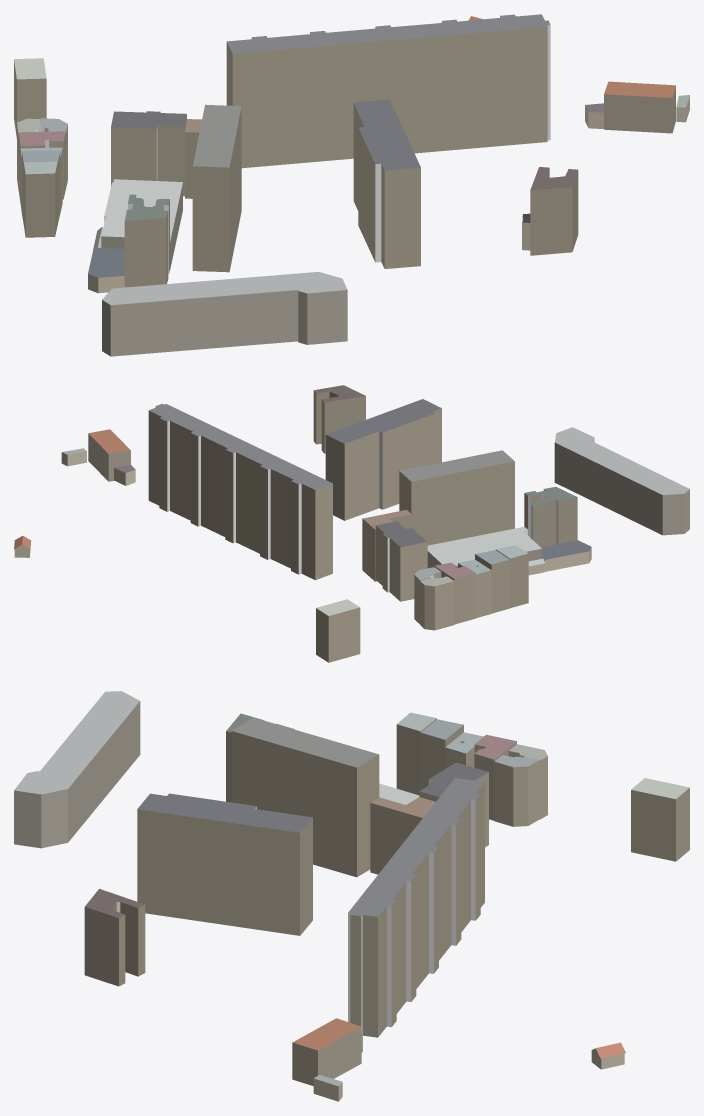
The picture shows the model from 3 angles, top to bottom: view 1: azimuth 30°, elevation 25°; view 2: azimuth 150°, elevation 25°; view 3: azimuth 270°, elevation 25°; orthographic projection. The views are drawn at different scales.
Visible parts, largest first — view 1: tuile; view 2: tuile; view 3: tuile.
Part boxes in pixels (bbox=[...]): tuile: bbox=[14, 14, 689, 356]; tuile: bbox=[14, 385, 689, 662]; tuile: bbox=[14, 691, 689, 1101].
Bounding box in the file's own units: 282 × 47.03 × 227.
